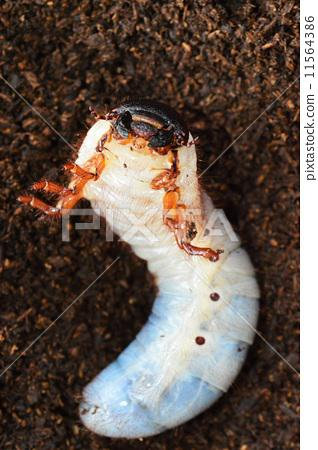grub: (29, 92, 289, 450)
